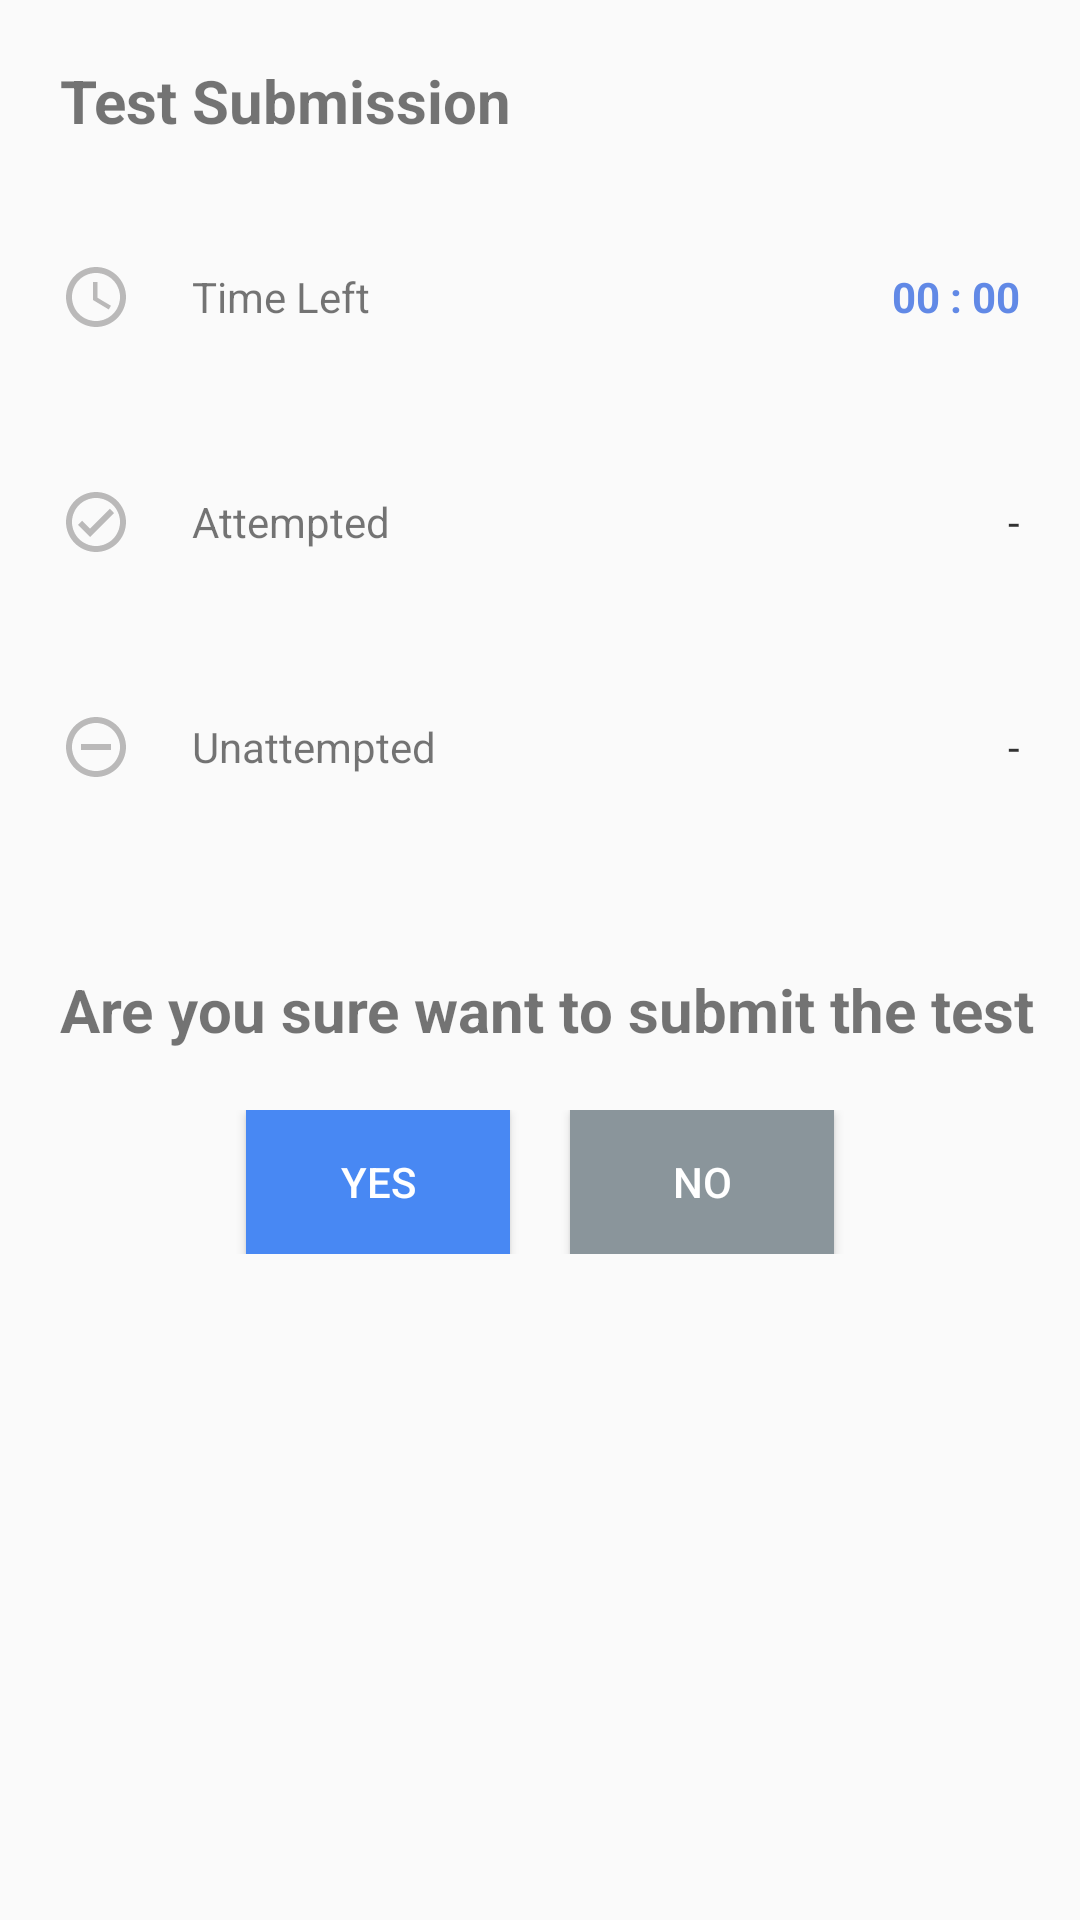

Locate icon controls on the screen. Image size 1080x1920, boxes as BBox(x1, y1, x2, y2).
time remain: BBox(66, 267, 126, 327)
